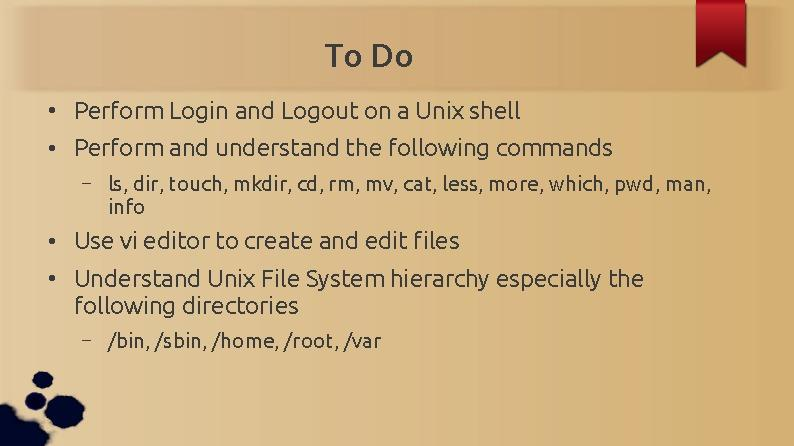paragraph: (30, 89, 735, 369)
title: (313, 35, 422, 86)
